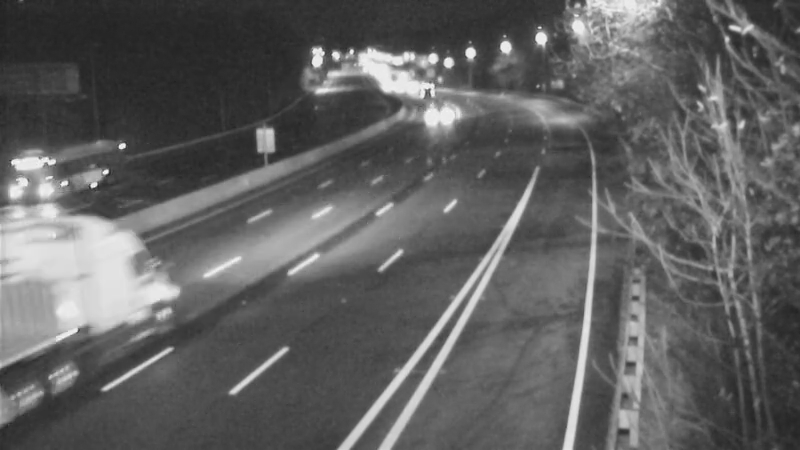vehicle: (14, 135, 94, 215), (403, 69, 453, 119), (413, 86, 463, 136)
